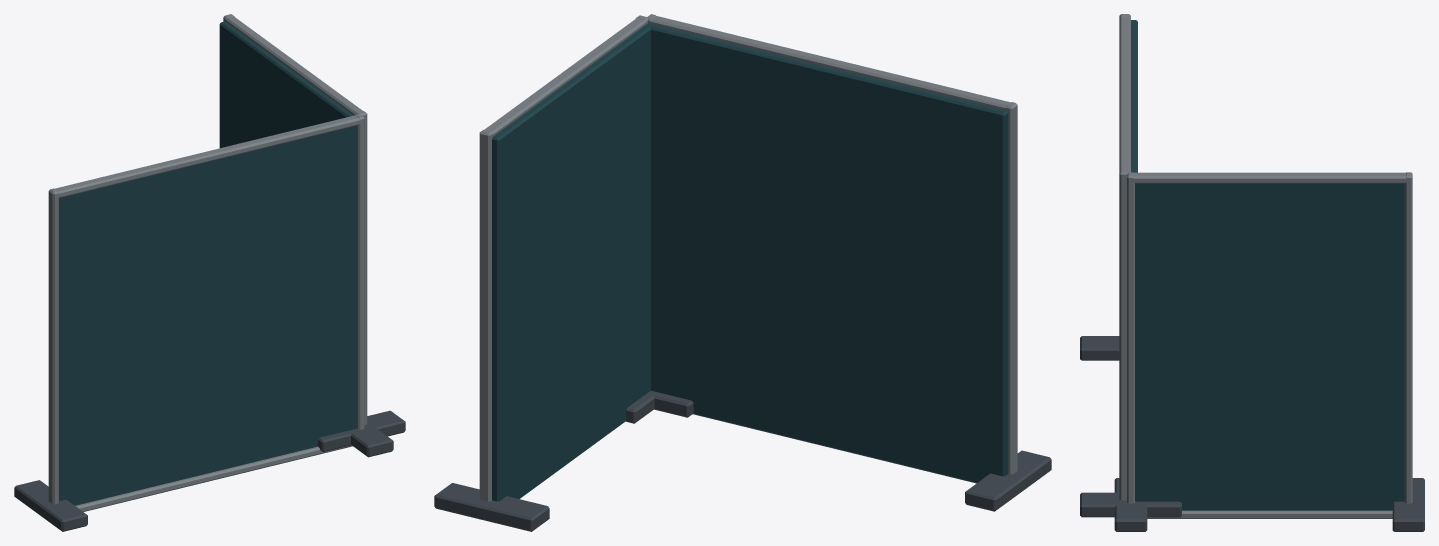
The model's file is PartitionCorner.fbx.
3 views of the same model, side by side, from view 1: azimuth 30°, elevation 25°; view 2: azimuth 150°, elevation 25°; view 3: azimuth 270°, elevation 25° (orthographic). The views are drawn at different scales.
Visible parts, largest first — view 1: PartitionCorner; view 2: PartitionCorner; view 3: PartitionCorner.
Part boxes in pixels (bbox=[...]): PartitionCorner: bbox=[14, 14, 405, 531]; PartitionCorner: bbox=[434, 14, 1051, 531]; PartitionCorner: bbox=[1080, 14, 1424, 531].
Size of the model in its own units: 189 by 164 by 149.
1 material, 1 textured.
